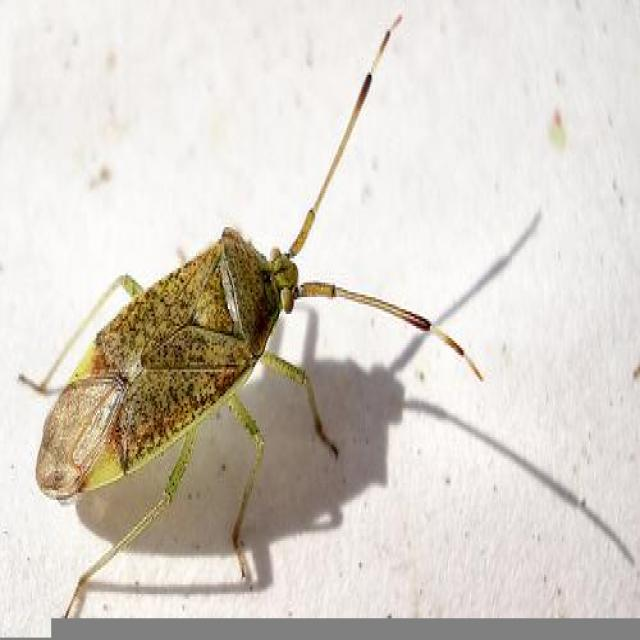Miridae-Adult-: (18, 9, 450, 619)
